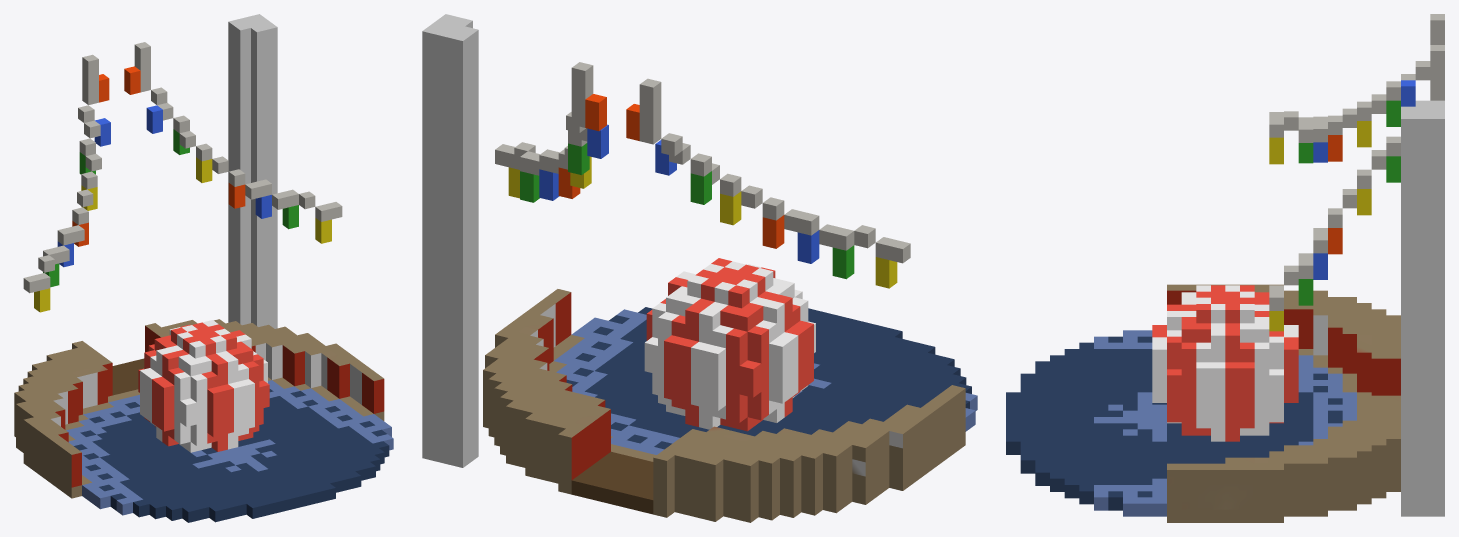
Rendered from OmaruPolkaStage.fbx.
3 renders of one model, left to right at view 1: azimuth 30°, elevation 25°; view 2: azimuth 150°, elevation 25°; view 3: azimuth 270°, elevation 25°, orthographic. The views are drawn at different scales.
Visible parts, largest first — view 1: Stage, Pole, CircusBall, Rope; view 2: Stage, Pole, CircusBall, Rope; view 3: Stage, CircusBall, Pole, Rope.
Boxes of the visible parts, left/top/right/bottom form: Stage: left=14, top=319, right=393, bottom=522; Pole: left=228, top=14, right=277, bottom=328; CircusBall: left=138, top=320, right=269, bottom=452; Rope: left=23, top=42, right=342, bottom=312; Stage: left=483, top=289, right=977, bottom=522; Pole: left=422, top=14, right=478, bottom=467; CircusBall: left=644, top=258, right=815, bottom=431; Rope: left=495, top=62, right=910, bottom=288; Stage: left=1006, top=284, right=1400, bottom=522; CircusBall: left=1152, top=285, right=1298, bottom=441; Pole: left=1401, top=100, right=1444, bottom=516; Rope: left=1269, top=14, right=1444, bottom=331.
Size of the model in its own units: 300 by 300 by 300.
